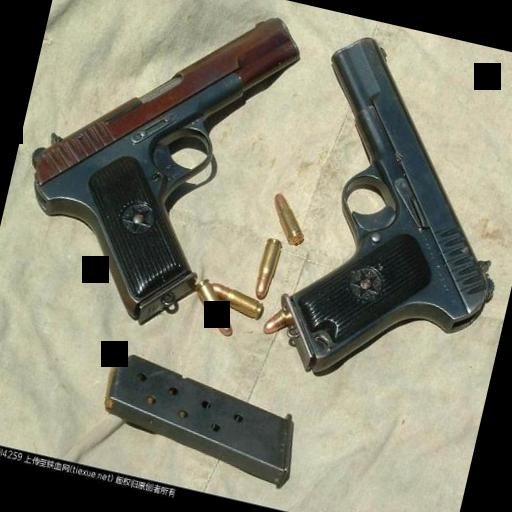Handgun: (0, 0, 310, 345), (257, 28, 512, 418)
